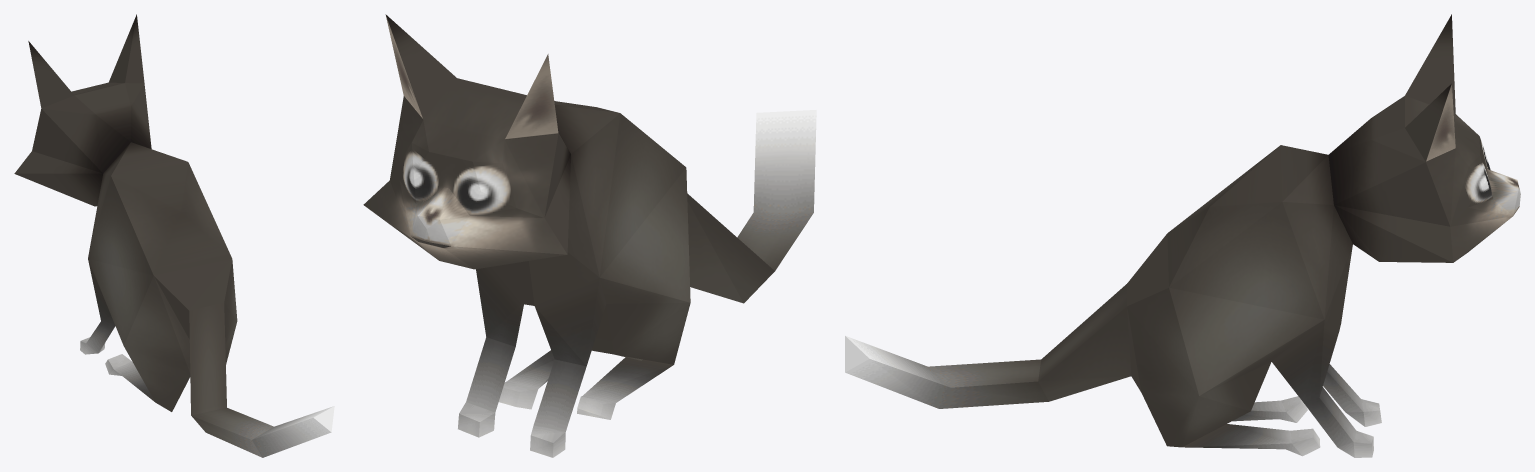
The model's file is catsit.glb.
The picture shows the model from 3 angles, left to right: view 1: azimuth 30°, elevation 25°; view 2: azimuth 150°, elevation 25°; view 3: azimuth 270°, elevation 25°; orthographic projection. The views are drawn at different scales.
Parts seen in each view (by area): view 1: catsit; view 2: catsit; view 3: catsit.
Boxes of the visible parts, x1,y1,x2,y2 form: catsit: (14, 14, 334, 457); catsit: (363, 14, 816, 457); catsit: (845, 14, 1520, 457).
Size of the model in its own units: 38.75 by 81.05 by 127.
Materials: 1 (1 with a texture image).
